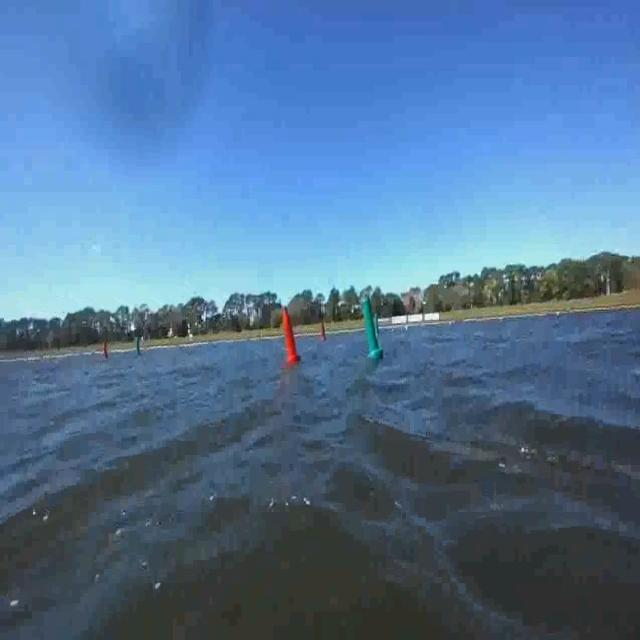green-column-buoy: (361, 298, 384, 360), (135, 336, 143, 357)
red-column-buoy: (281, 309, 301, 364), (101, 340, 109, 362), (320, 321, 328, 341)
